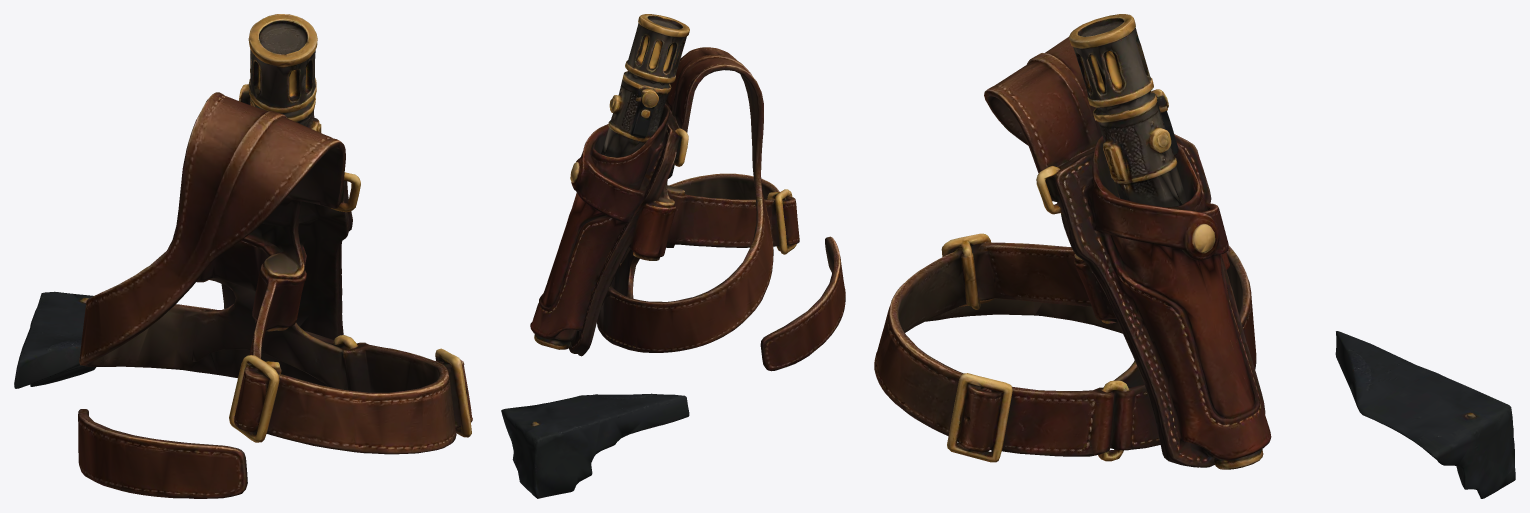
The model's file is sidearm-holster.glb.
The picture shows the model from 3 angles, left to right: view 1: azimuth 30°, elevation 25°; view 2: azimuth 150°, elevation 25°; view 3: azimuth 270°, elevation 25°; orthographic projection. The views are drawn at different scales.
Visible parts, largest first — view 1: tripo_node_d01565db-04ea-4e74-9348-14499e75b79c; view 2: tripo_node_d01565db-04ea-4e74-9348-14499e75b79c; view 3: tripo_node_d01565db-04ea-4e74-9348-14499e75b79c.
Boxes of the visible parts, x1,y1,x2,y2 form: tripo_node_d01565db-04ea-4e74-9348-14499e75b79c: (14, 14, 472, 498); tripo_node_d01565db-04ea-4e74-9348-14499e75b79c: (501, 14, 845, 498); tripo_node_d01565db-04ea-4e74-9348-14499e75b79c: (874, 14, 1515, 498).
Size of the model in its own units: 0.5794 by 0.8302 by 0.9993.
Materials: 1 (1 with a texture image).
